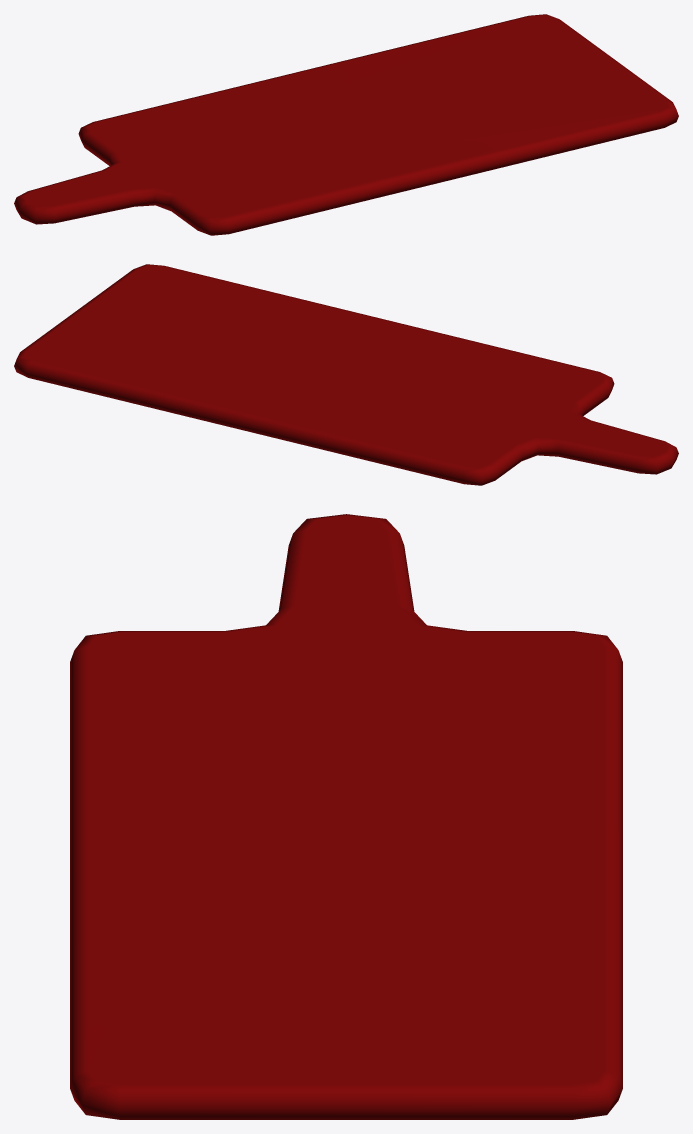
Rendered from SM_Cutting_Board.fbx.
3 views of the same model, one above another, from view 1: azimuth 30°, elevation 25°; view 2: azimuth 150°, elevation 25°; view 3: azimuth 270°, elevation 25° (orthographic). The views are drawn at different scales.
Visible parts, largest first — view 1: SM_Cutting_Board; view 2: SM_Cutting_Board; view 3: SM_Cutting_Board.
Boxes of the visible parts, <box> form: SM_Cutting_Board: <box>14,14,678,235</box>; SM_Cutting_Board: <box>14,264,678,485</box>; SM_Cutting_Board: <box>70,514,622,1119</box>.
Size of the model in its own units: 75 by 2 by 30.
